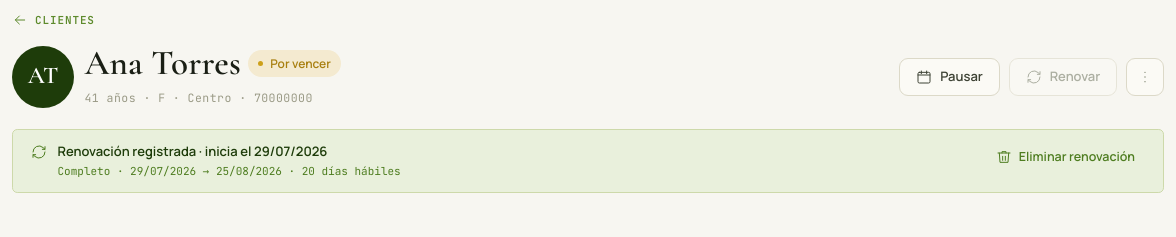
it: with a queued renewal › shows a tooltip explaining why Renovar is disabled
Step 1. Focus the element showing "Renovar" → (1063, 76), box 1009,58 -> 1117,96
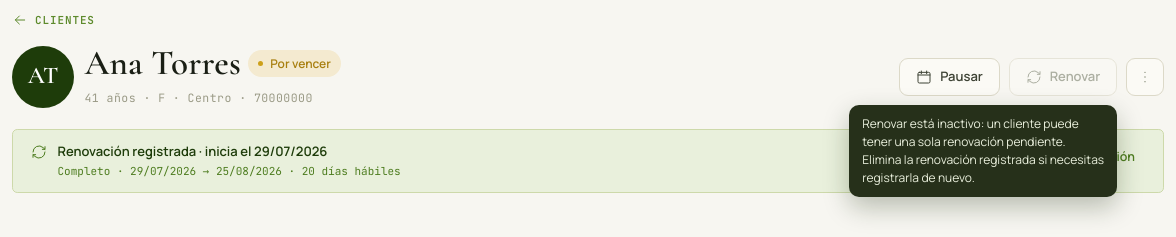
Expected: the tooltip shows "una sola renovación pendiente", 862,114 -> 1104,186
